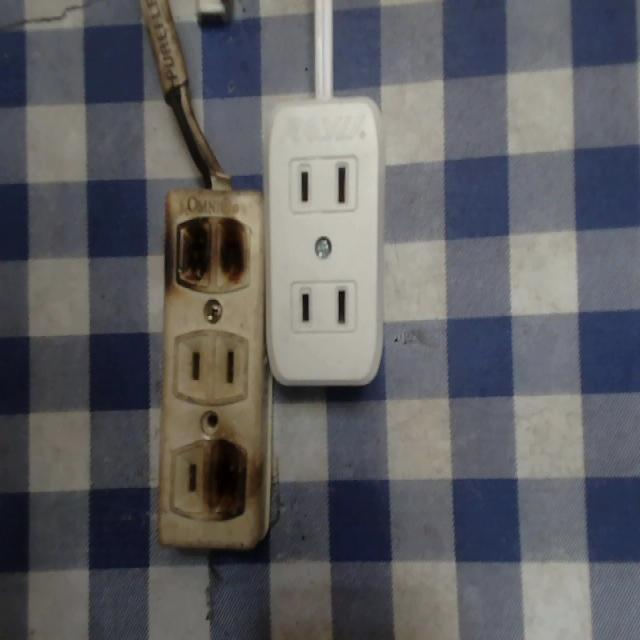-: (167, 208, 253, 300), (203, 432, 256, 523)
